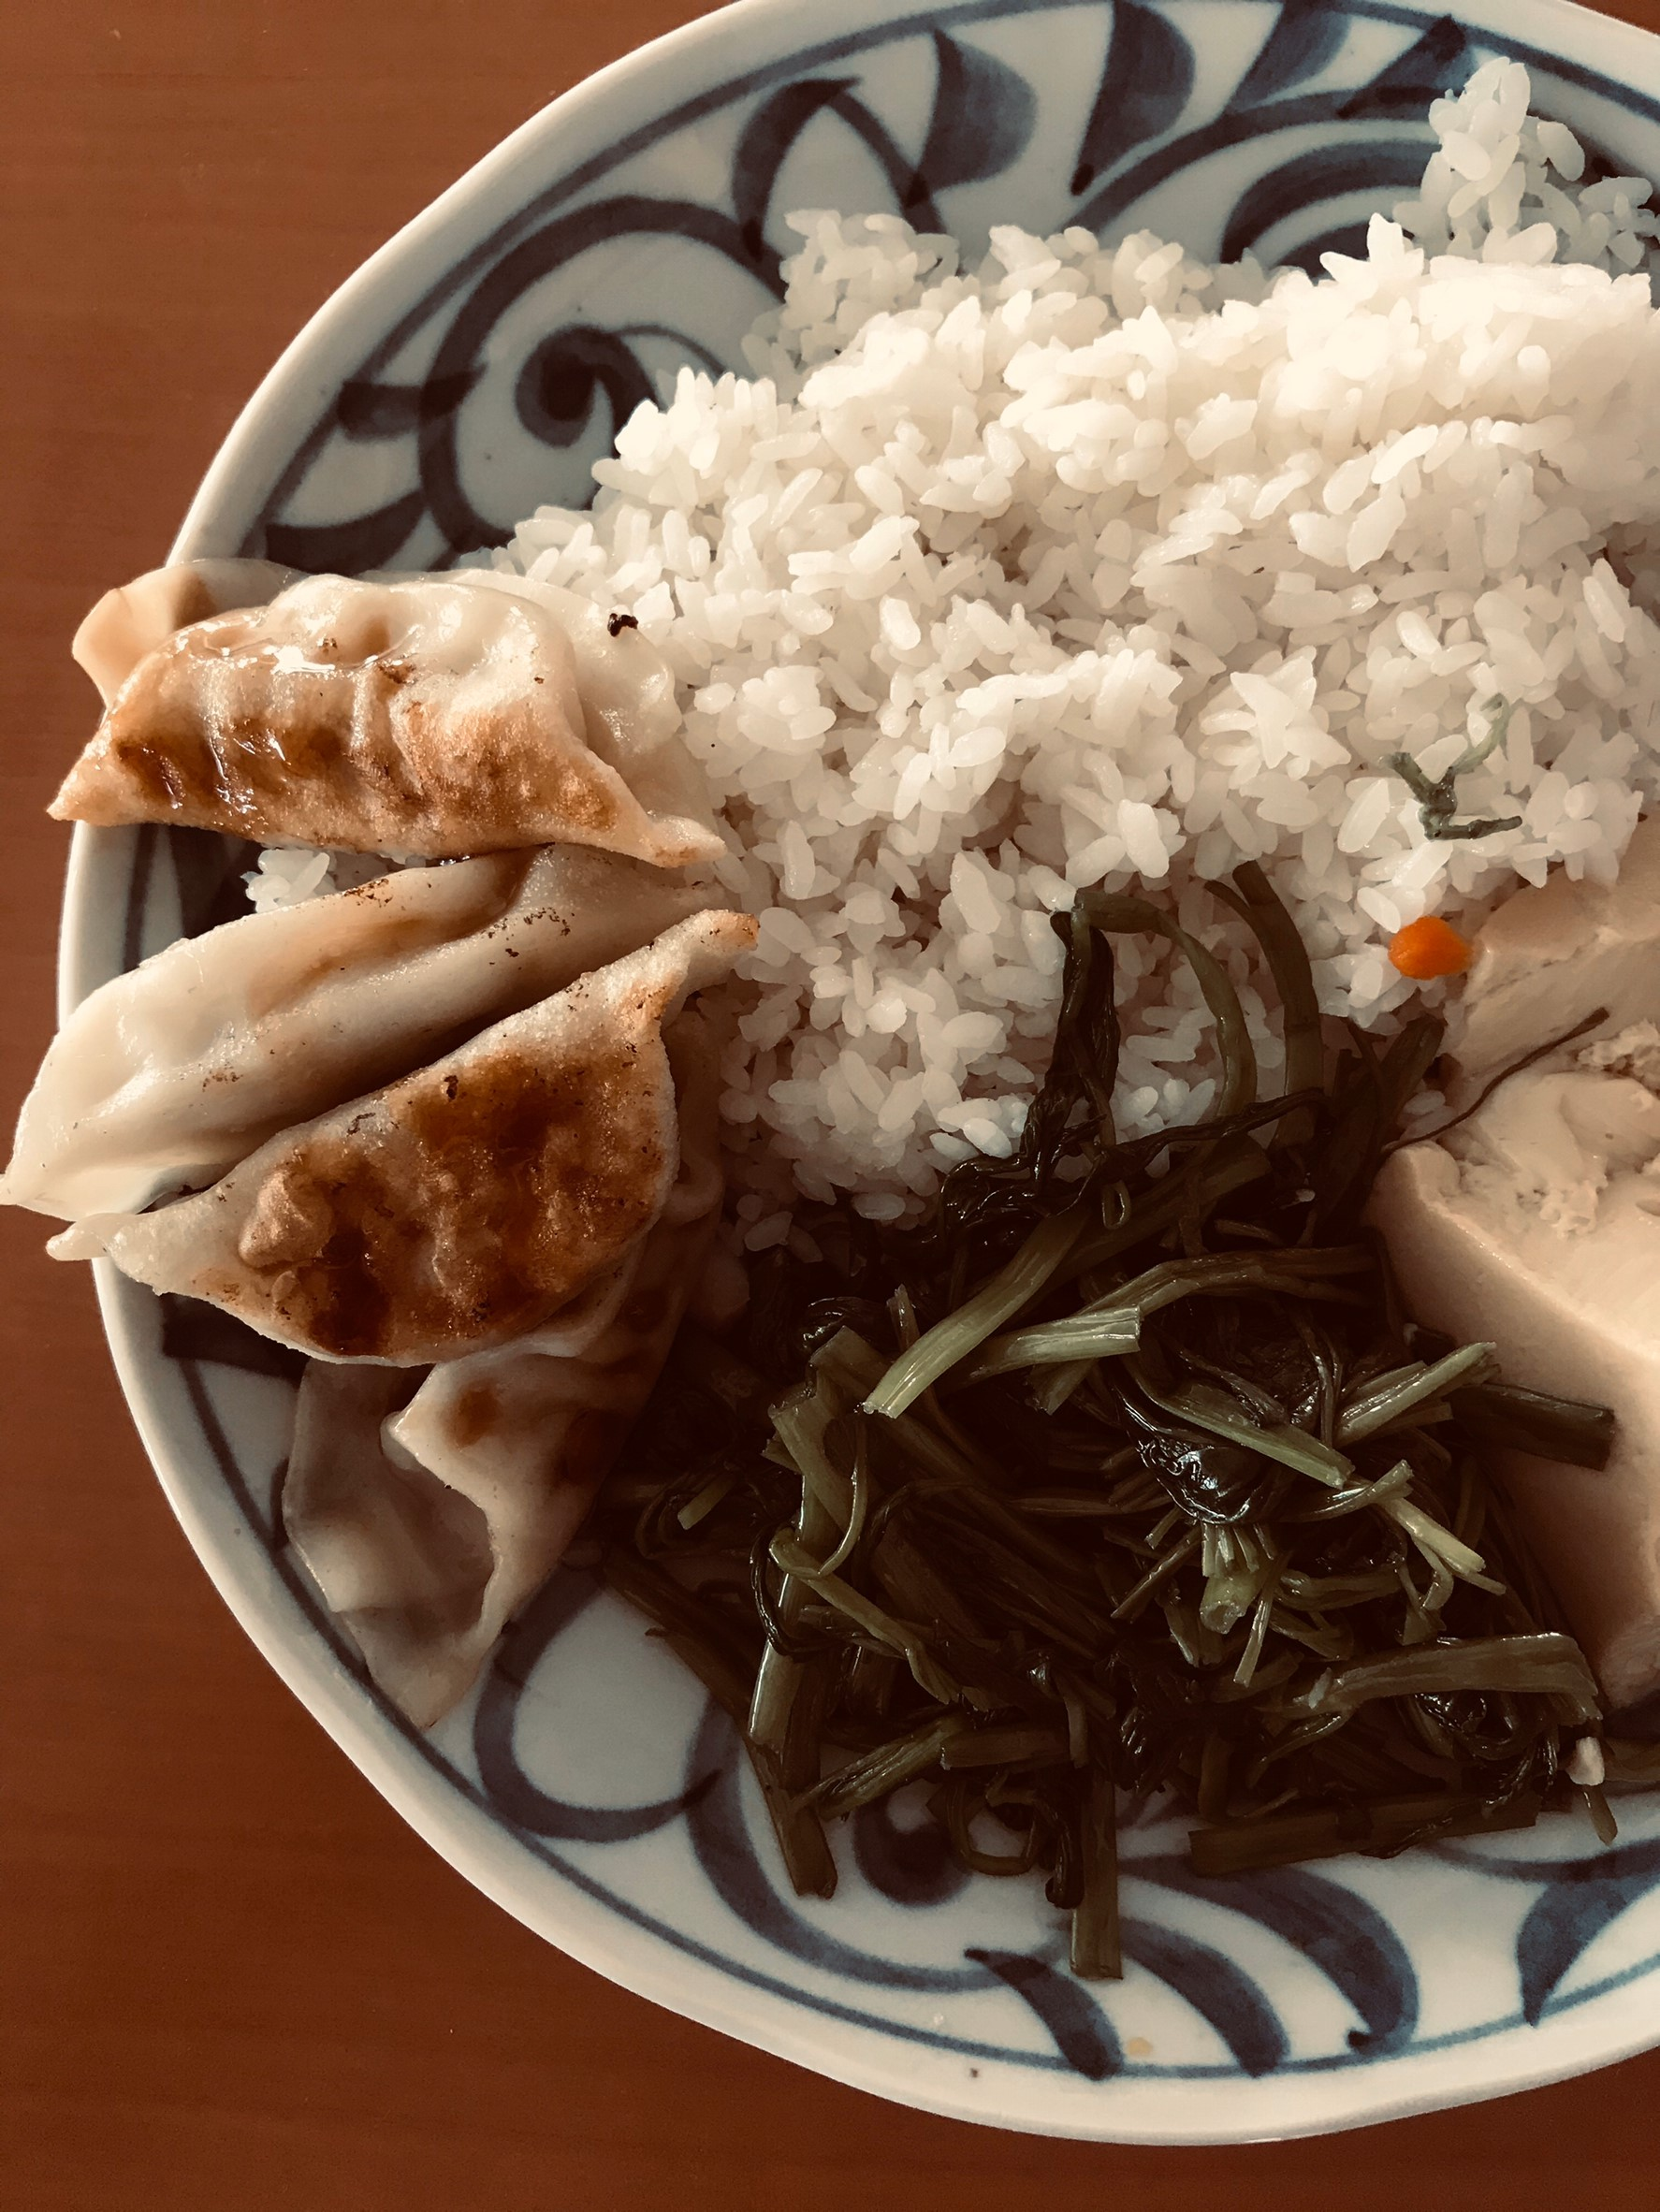fried_dumplings: (124, 608, 670, 1313)
rice: (680, 249, 1660, 934)
water_spinach: (799, 1178, 1402, 1792)
